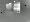person: (6, 6, 12, 16), (15, 3, 20, 14), (10, 5, 14, 15)
